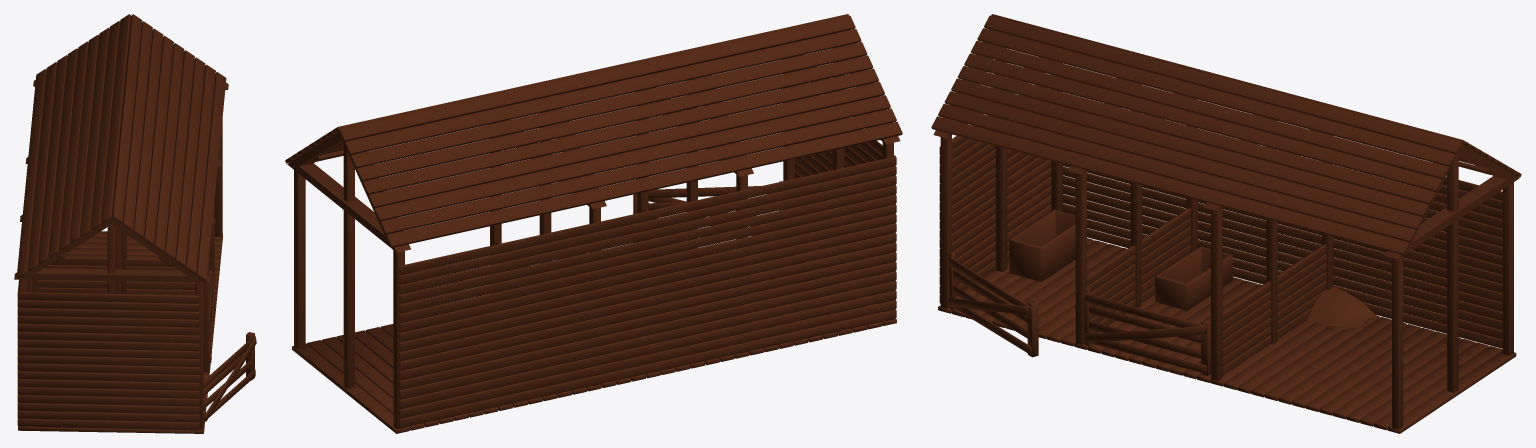
The model's file is STABLE.fbx.
The picture shows the model from 3 angles, left to right: view 1: azimuth 30°, elevation 25°; view 2: azimuth 150°, elevation 25°; view 3: azimuth 270°, elevation 25°; orthographic projection. The views are drawn at different scales.
Parts seen in each view (by area): view 1: STABLE; view 2: STABLE; view 3: STABLE.
Boxes of the visible parts, left/top/right/bottom form: STABLE: left=14, top=14, right=256, bottom=433; STABLE: left=285, top=14, right=902, bottom=433; STABLE: left=931, top=14, right=1521, bottom=433.
Size of the model in its own units: 165 by 95.88 by 200.
